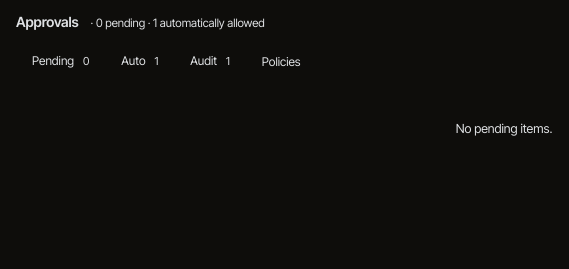
Scenario: GatingInboxPanel recorded audit › shows the recorded r0 automatic allowance without inventing a risk scale
Click the button with test id "gating-tab:auto".
click(140, 62)  # box [105,44,174,80]
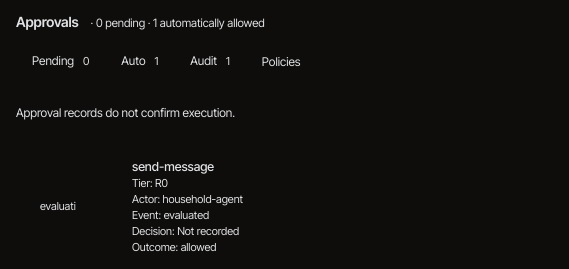
Expected: the text "Actor: household-agent" is shown, [132,192,243,206]
Expected: the text "Decision: Not recorded" is shown, [132,224,239,238]
Expected: the text "Approval records do not confirm execution." is shown, [16,105,235,120]
